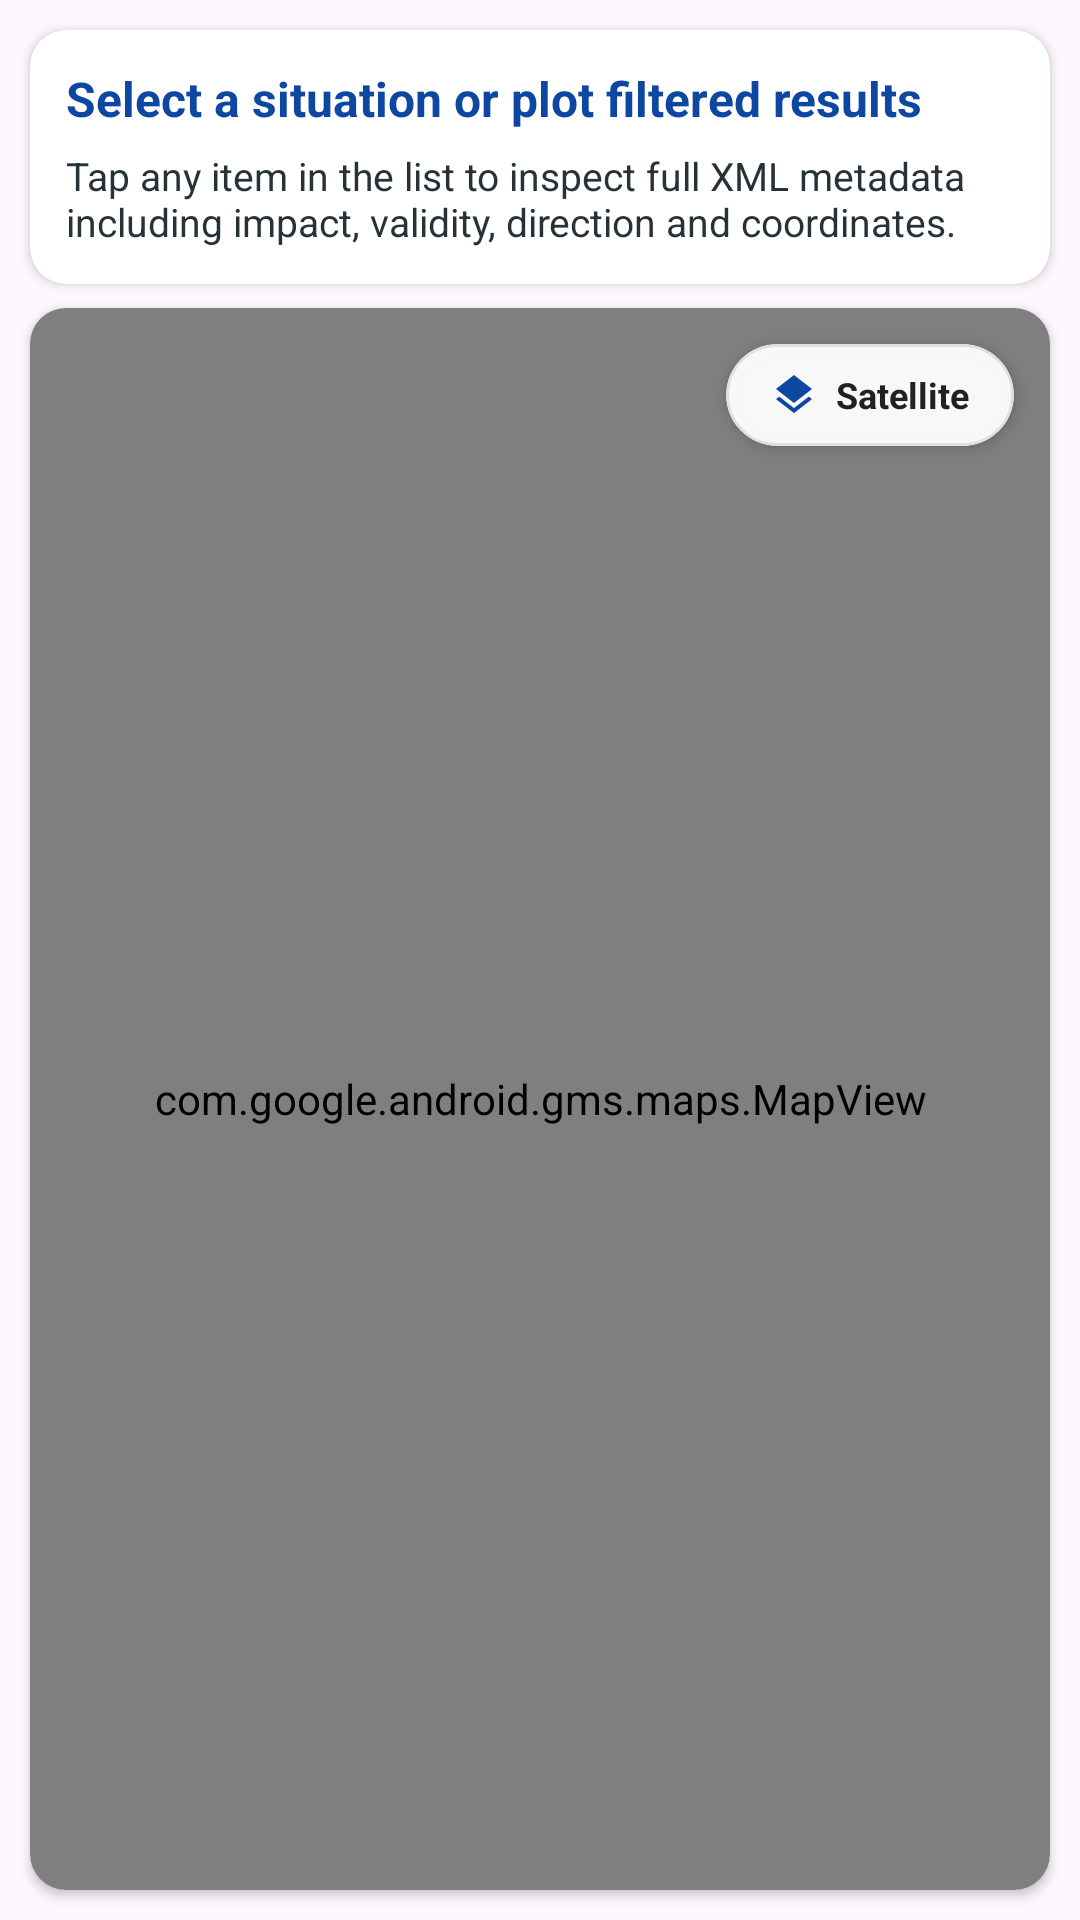

Icons on this 1080*1920 Android screen, each with its box as [left=x1, top=y1, right=x2, bottom=y2]:
Toggle Map View: [left=776, top=375, right=812, bottom=413]
